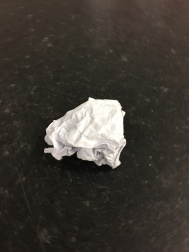paper_white: (32, 83, 142, 174)
